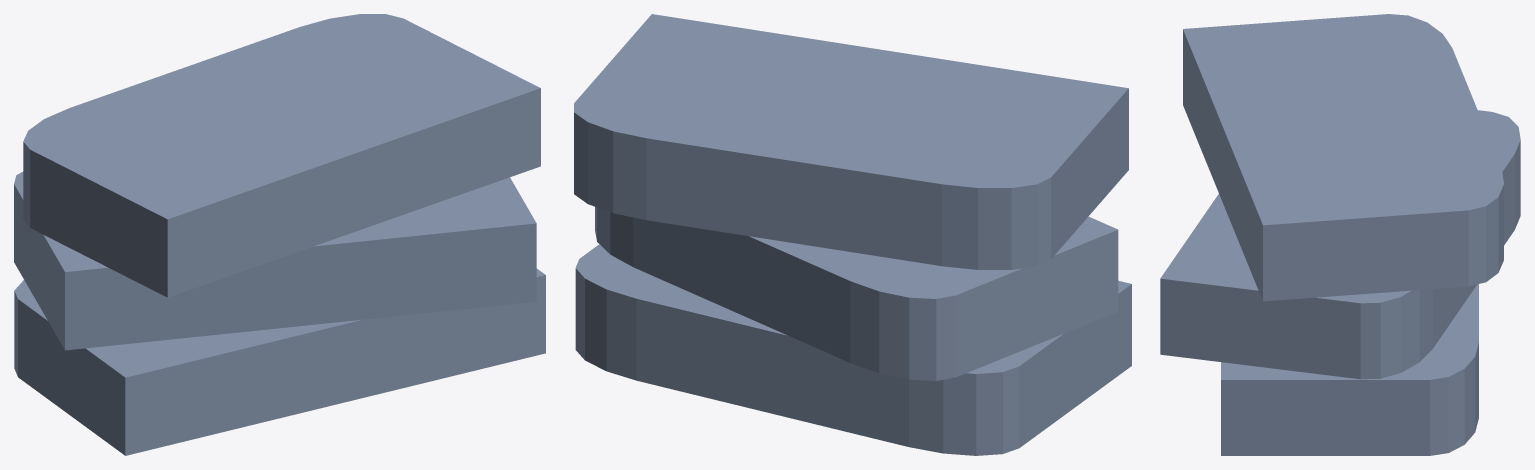
The model's file is n64_cartridges_pile.glb.
3 views of the same model, side by side, from view 1: azimuth 30°, elevation 25°; view 2: azimuth 150°, elevation 25°; view 3: azimuth 270°, elevation 25° (orthographic). The views are drawn at different scales.
Parts seen in each view (by area): view 1: n64.Cartbridges.Pile; view 2: n64.Cartbridges.Pile; view 3: n64.Cartbridges.Pile.
Part boxes in pixels (left/top/right/bottom): n64.Cartbridges.Pile: left=14, top=14, right=545, bottom=455; n64.Cartbridges.Pile: left=574, top=14, right=1131, bottom=455; n64.Cartbridges.Pile: left=1160, top=14, right=1520, bottom=455.
Bounding box in the file's own units: 0.1152 × 0.0586 × 0.0804.
1 material, 1 textured.
